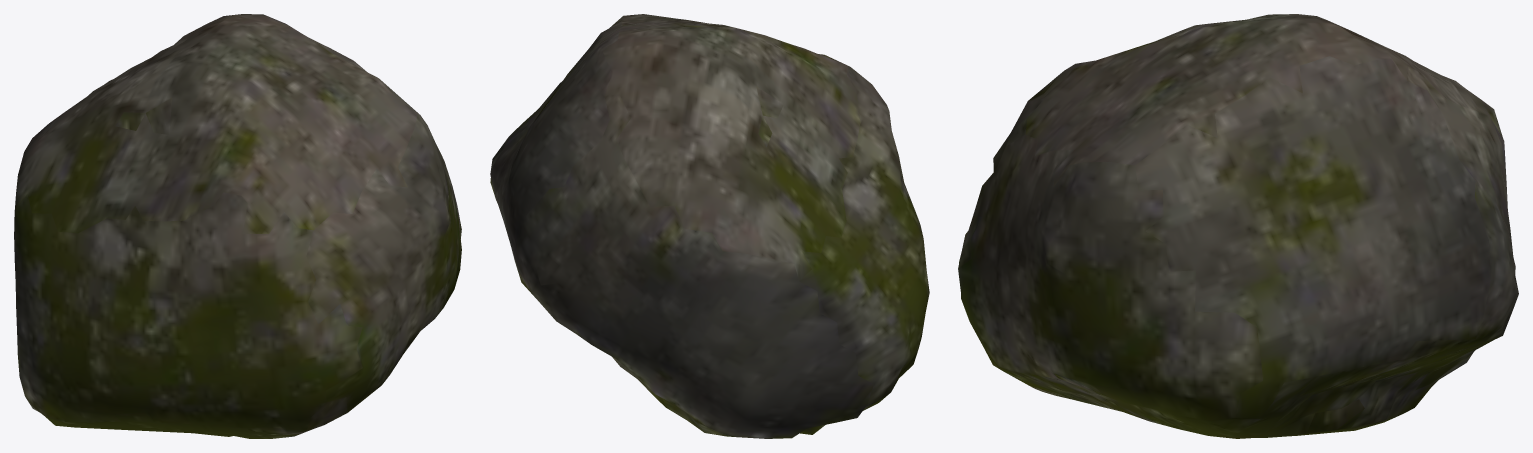
File: rock3.glb
3 renders of one model, left to right at view 1: azimuth 30°, elevation 25°; view 2: azimuth 150°, elevation 25°; view 3: azimuth 270°, elevation 25°, orthographic. The views are drawn at different scales.
Parts seen in each view (by area): view 1: A_Set.004; view 2: A_Set.004; view 3: A_Set.004.
Boxes of the visible parts, left/top/right/bottom form: A_Set.004: left=14, top=14, right=461, bottom=438; A_Set.004: left=490, top=14, right=929, bottom=438; A_Set.004: left=958, top=14, right=1518, bottom=438.
Size of the model in its own units: 5.74 by 4.71 by 5.45.
1 material, 1 textured.
